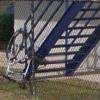Bicycle: (3, 26, 40, 61)
